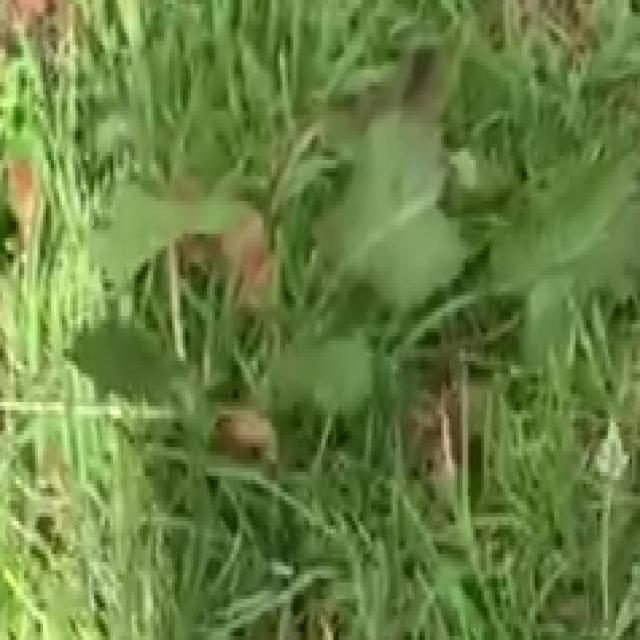organic waste: (80, 53, 640, 566)
